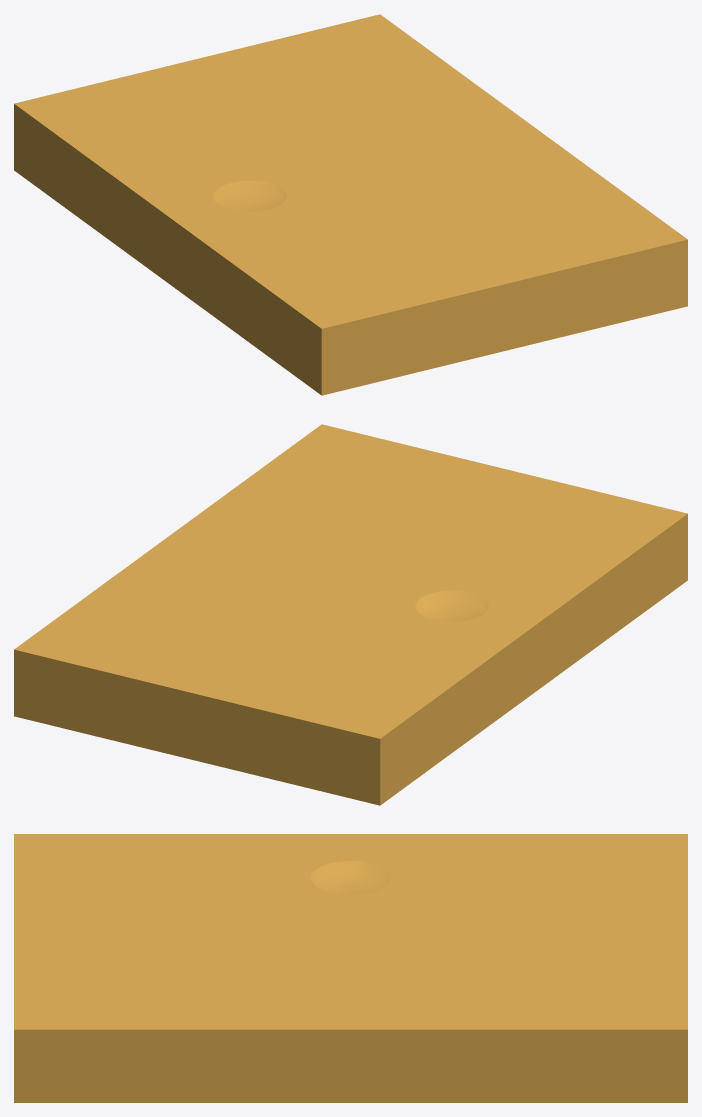
File: codePanel.fbx
The picture shows the model from 3 angles, top to bottom: view 1: azimuth 30°, elevation 25°; view 2: azimuth 150°, elevation 25°; view 3: azimuth 270°, elevation 25°; orthographic projection. The views are drawn at different scales.
Parts seen in each view (by area): view 1: Cube; view 2: Cube; view 3: Cube.
Part boxes in pixels (x1=…): Cube: x1=14, y1=14, x2=687, y2=395; Cube: x1=14, y1=424, x2=687, y2=805; Cube: x1=14, y1=834, x2=687, y2=1102.
Bounding box in the file's own units: 1148 × 200 × 1671.
